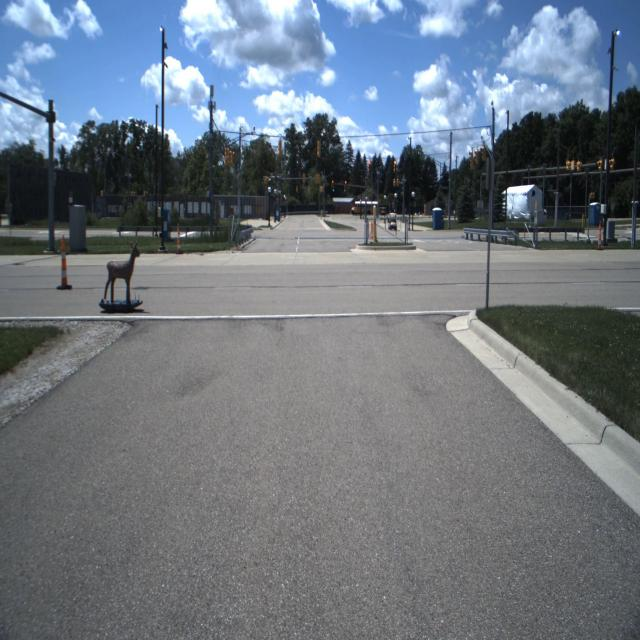Deer: (103, 242, 140, 300)
